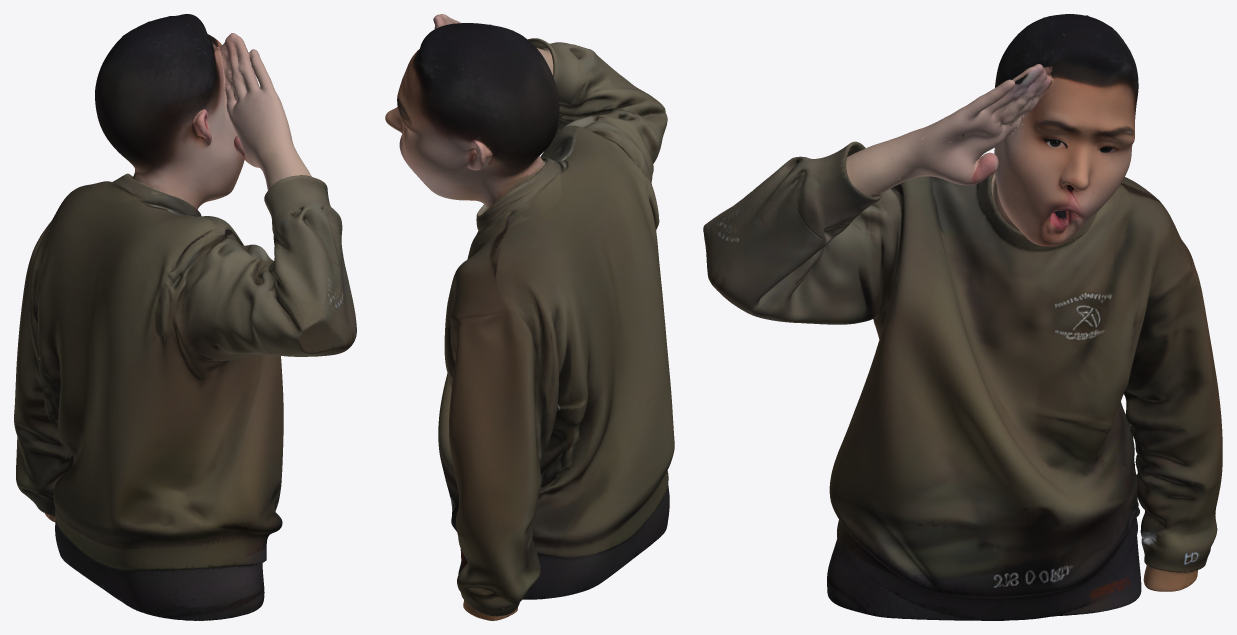
3 renders of one model, left to right at view 1: azimuth 30°, elevation 25°; view 2: azimuth 150°, elevation 25°; view 3: azimuth 270°, elevation 25°, orthographic. The views are drawn at different scales.
Parts seen in each view (by area): view 1: tripo_node_ac4f070b-39dd-453b-bac7-4285a05e3f06; view 2: tripo_node_ac4f070b-39dd-453b-bac7-4285a05e3f06; view 3: tripo_node_ac4f070b-39dd-453b-bac7-4285a05e3f06.
Boxes of the visible parts, bbox=[...] form: tripo_node_ac4f070b-39dd-453b-bac7-4285a05e3f06: bbox=[14, 14, 356, 620]; tripo_node_ac4f070b-39dd-453b-bac7-4285a05e3f06: bbox=[385, 14, 674, 620]; tripo_node_ac4f070b-39dd-453b-bac7-4285a05e3f06: bbox=[703, 14, 1222, 620].
Bounding box in the file's own units: 0.4247 × 1 × 0.8006.
Materials: 1 (1 with a texture image).
